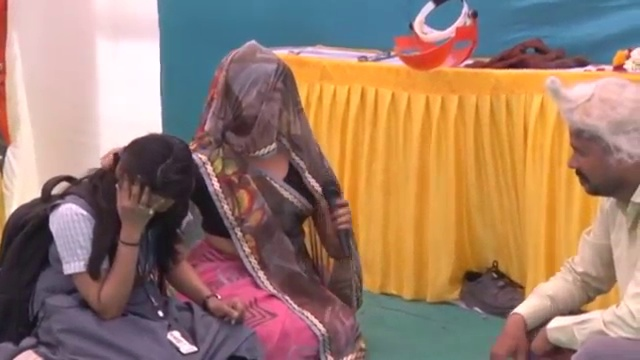helmet_off: (549, 77, 640, 205), (112, 133, 193, 226)
person: (0, 129, 265, 359), (177, 43, 366, 360), (491, 74, 639, 360)
